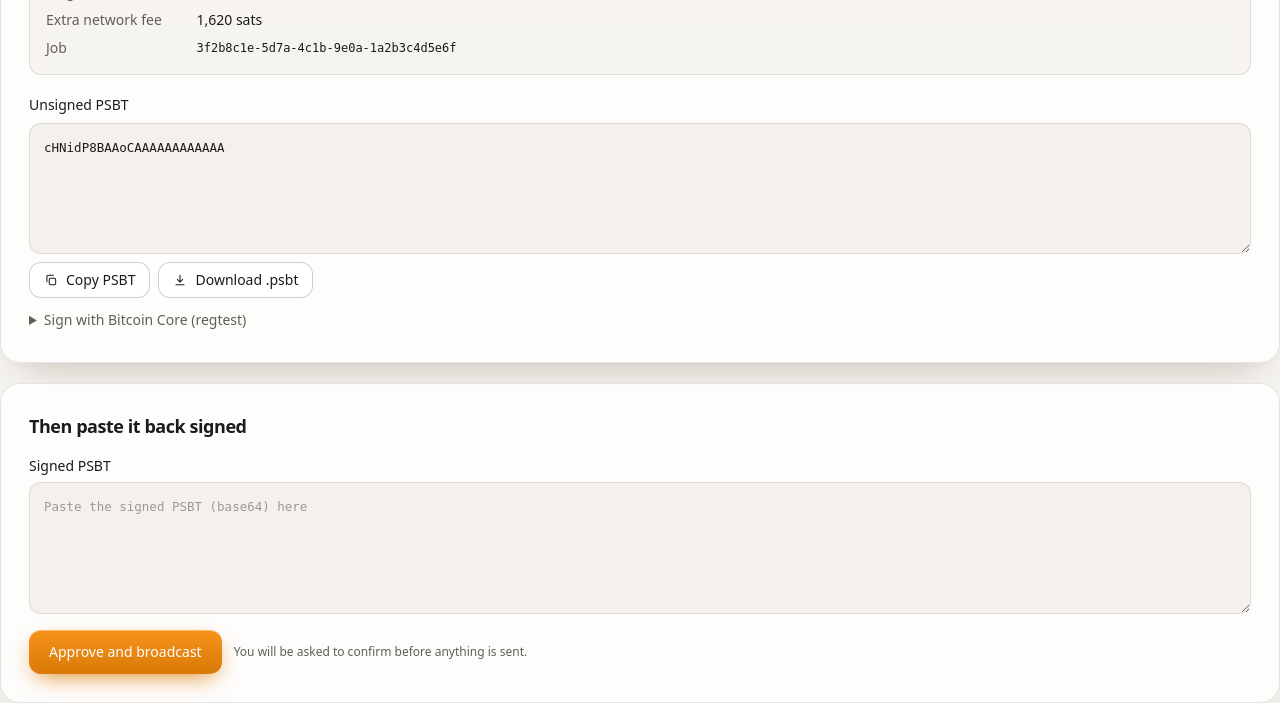
Test: Handoff approval › will not open the approval modal without a signed PSBT
(page scrolled)
Click the button "Approve and broadcast" at [125, 652], box 29,630 -> 222,674
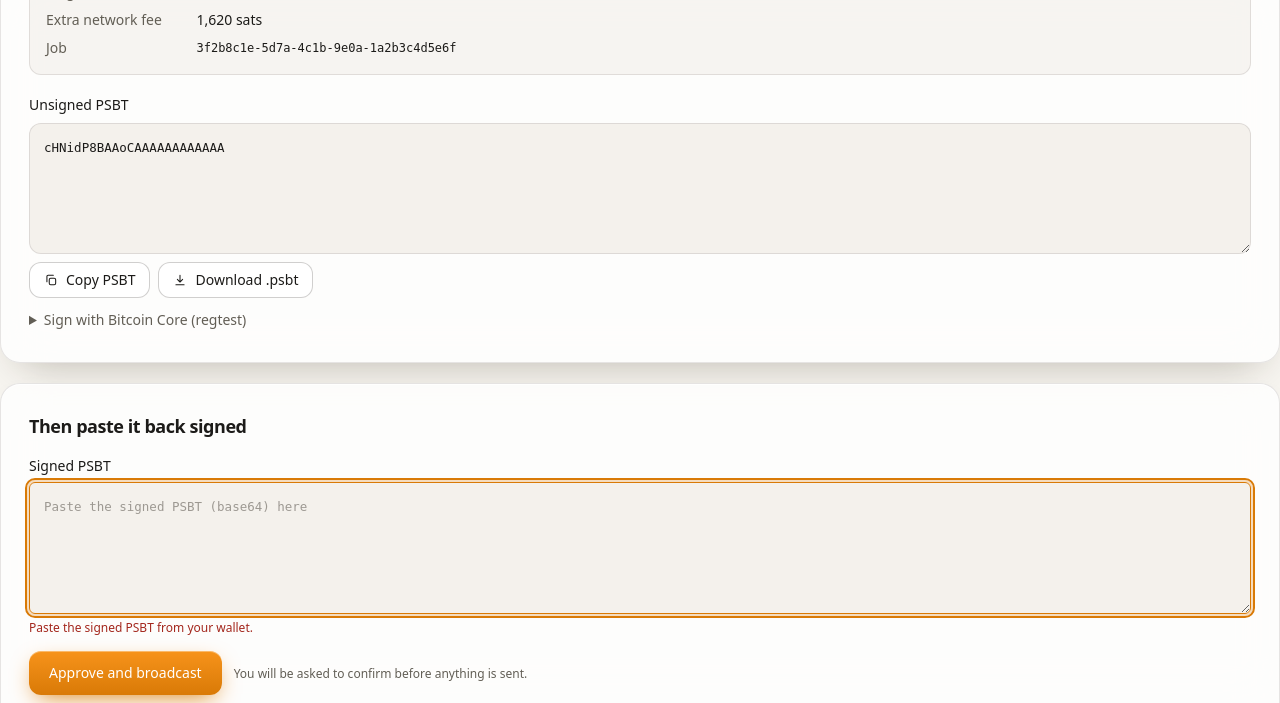
expect the text "Paste the signed PSBT from your wallet." is shown: met, box 29,619 -> 253,636
